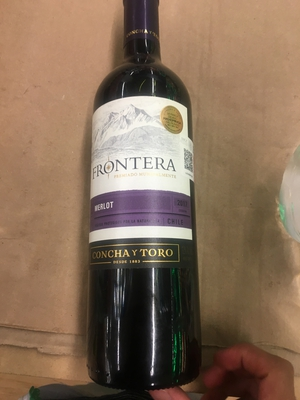frontera merlot: (75, 14, 233, 400)
